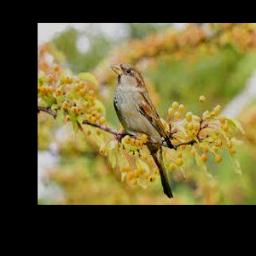Sparrow: (111, 63, 173, 198)
